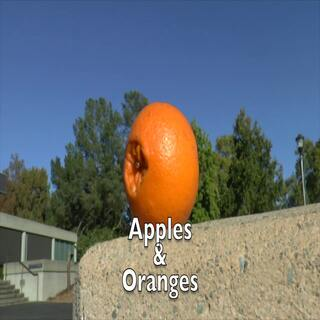orange: (119, 105, 203, 227)
